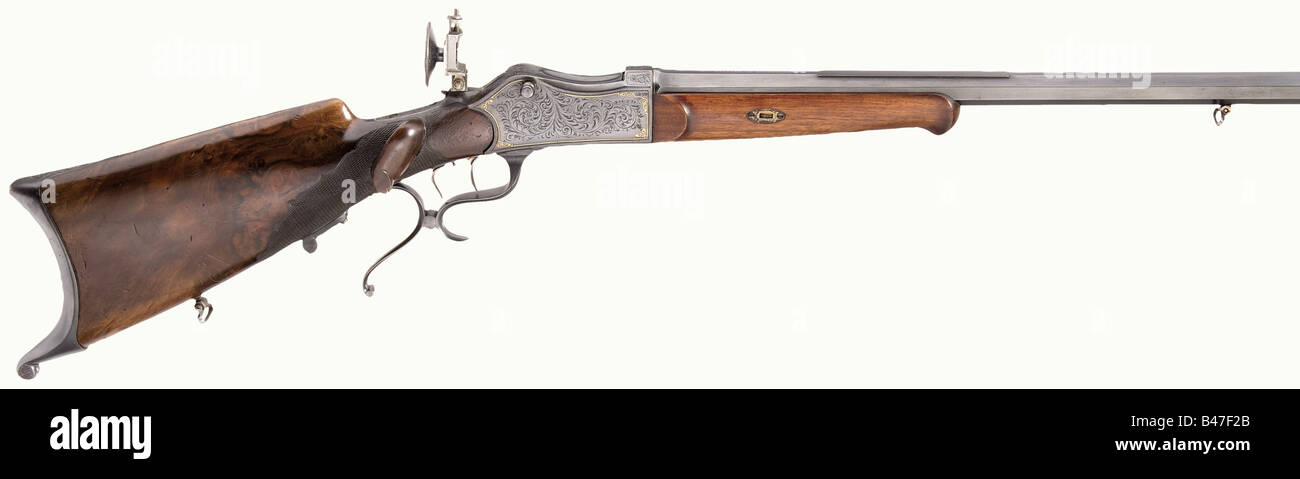GUN: (9, 4, 1299, 386)
